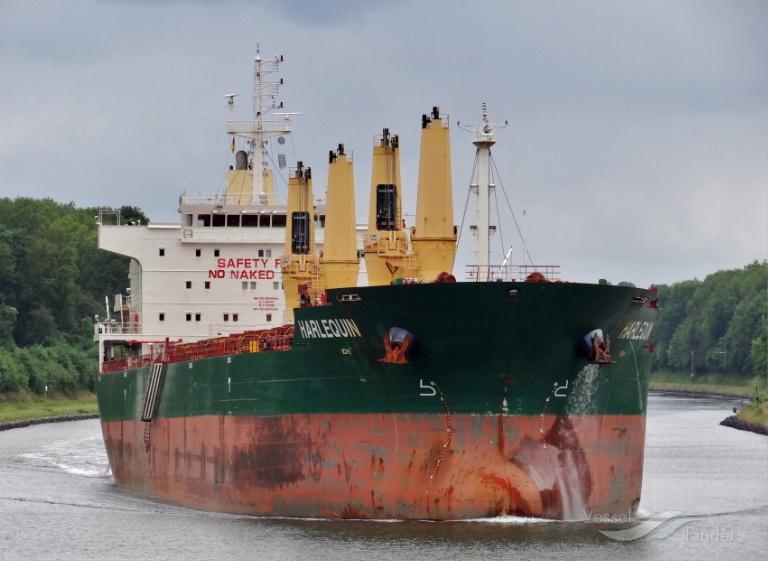OCR: (296, 315, 366, 344), (616, 311, 654, 348)
